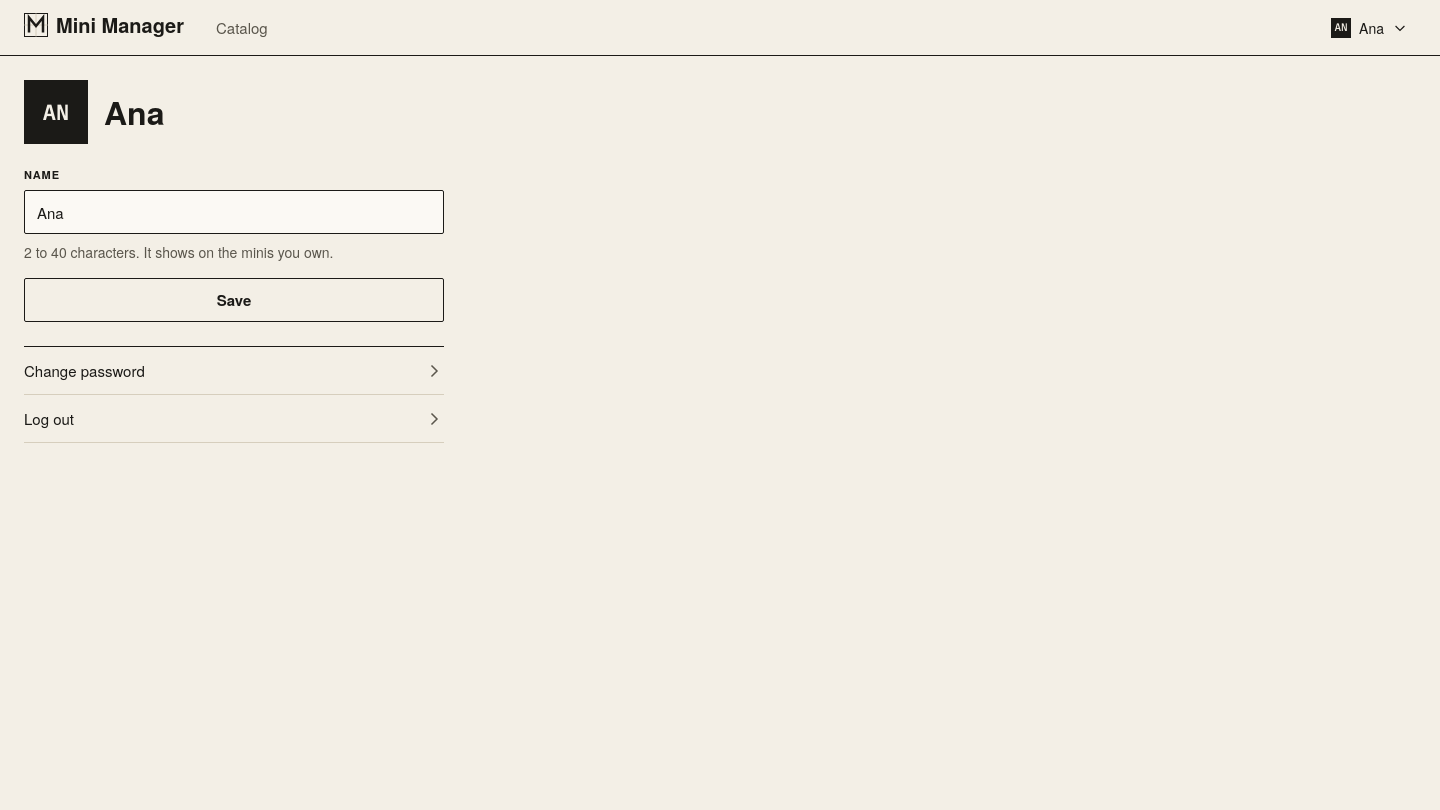
Test: ProfilePage › card 3 rule 1: changes my name, shows it at once and says the profile was saved
The width and height of the screenshot is (1440, 810).
Replace the text in the field labelled "Name" with "Ana Souza" at (234, 212), box [37,191,431,233]
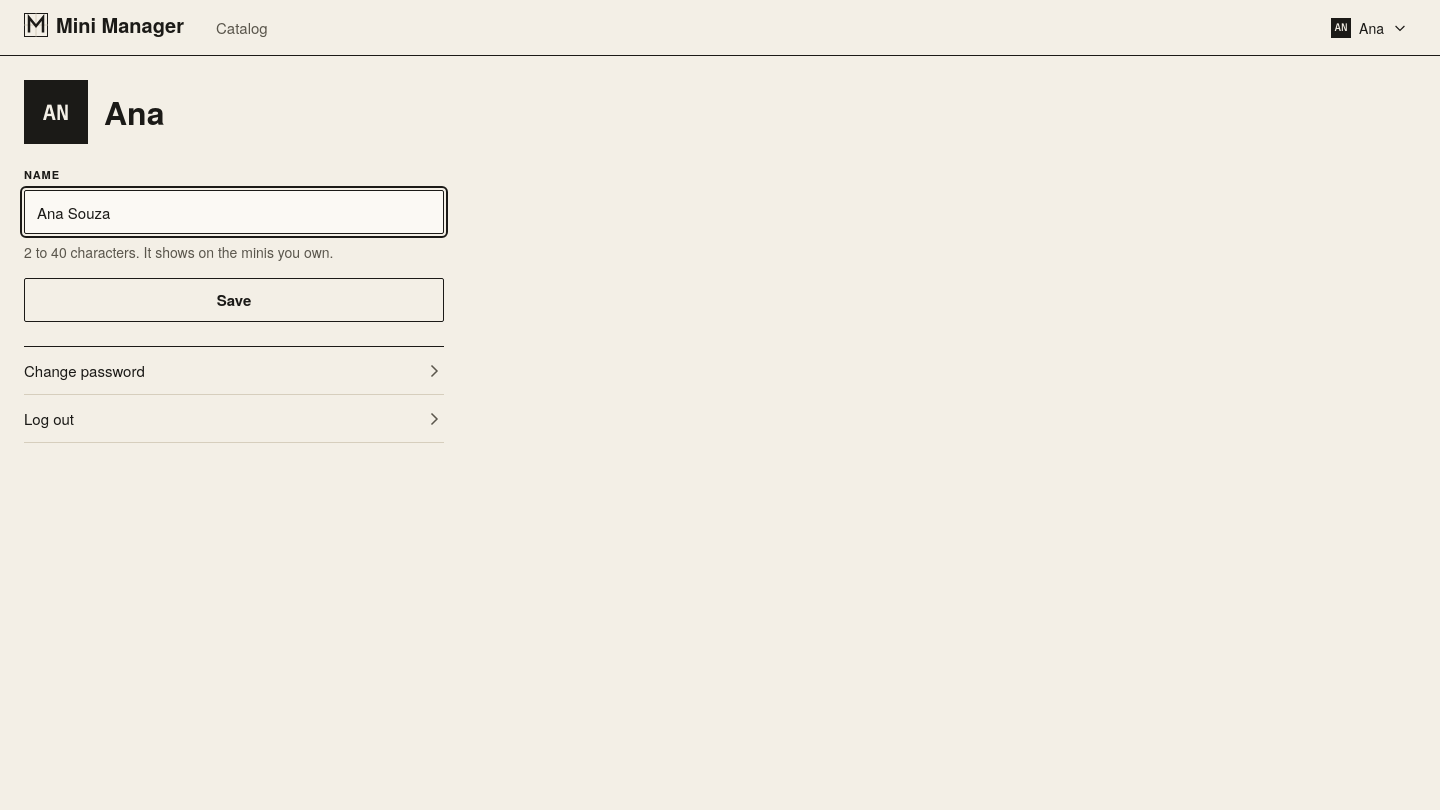
Click the button "Save" at (234, 300), box [24,278,444,322]
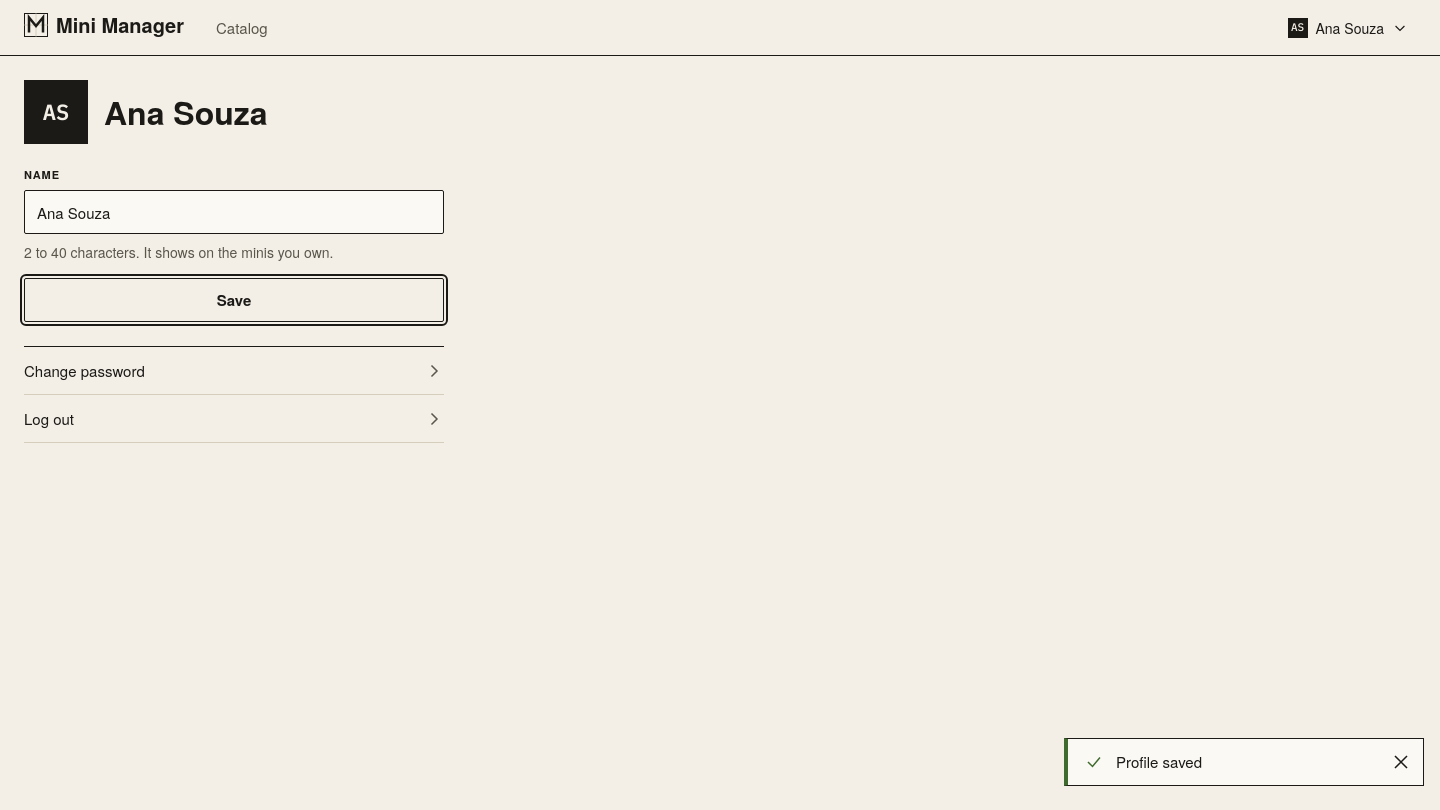
Now the text "Profile saved" is shown, box [1116,751,1202,772]
Now the heading "Ana Souza" is shown, box [104,94,268,130]
